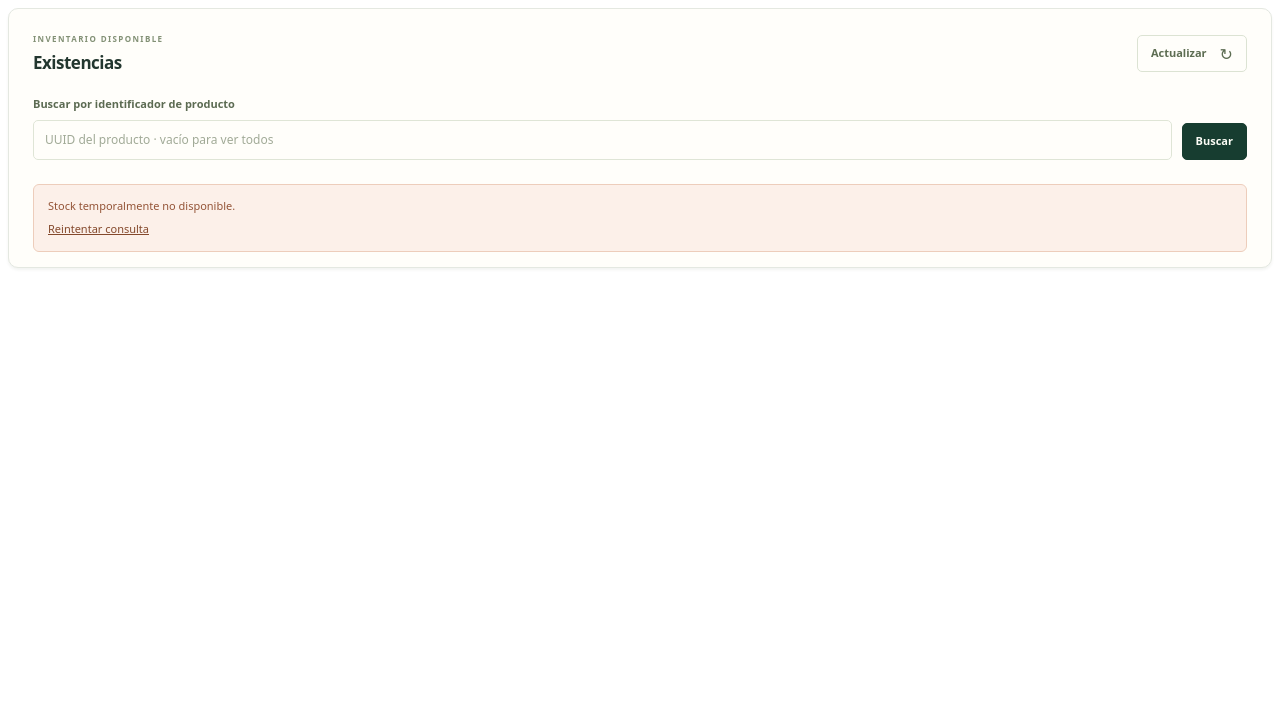
Test: microcomponentes autocontenidos de STOCK › muestra el fallo del proveedor y permite recuperar la consulta sin datos ficticios
The width and height of the screenshot is (1280, 720).
Step 1. Click the button "Reintentar consulta" → (98, 230), box [48, 220, 149, 239]
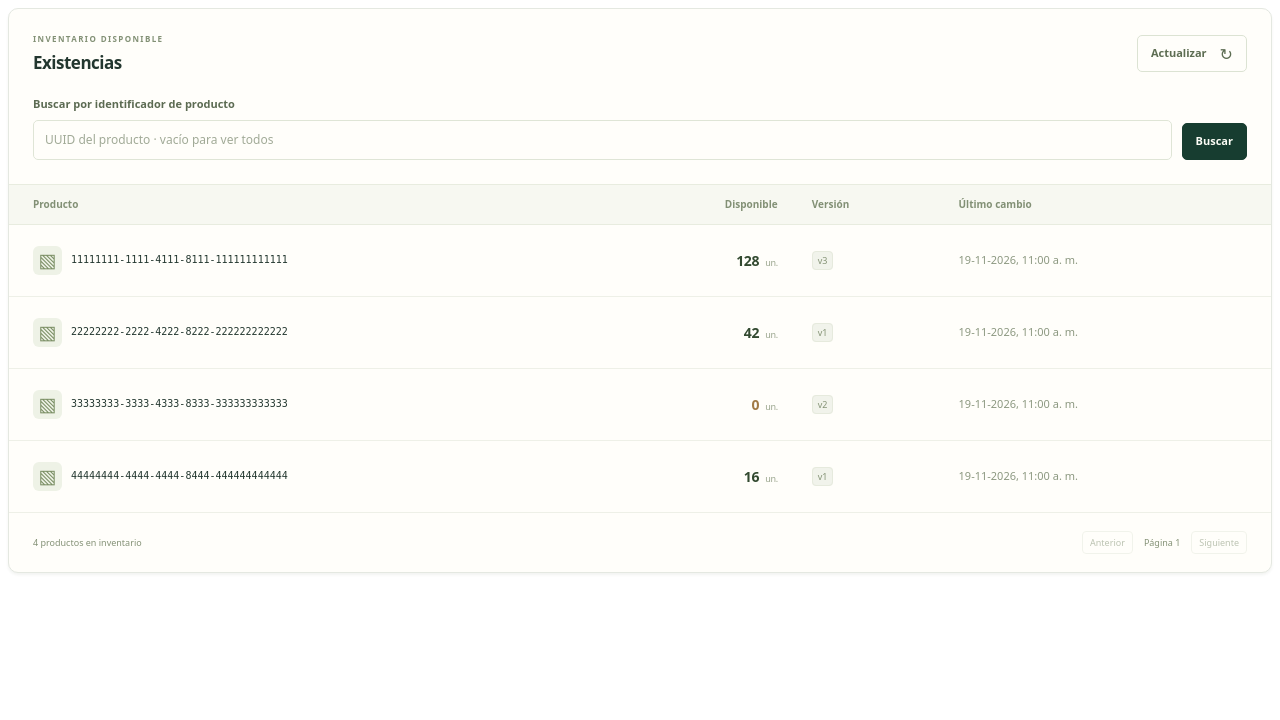
Now the text "11111111-1111-4111-8111-111111111111" is shown, box [71, 254, 288, 265]
Now the text "128" is shown, box [736, 251, 759, 270]
